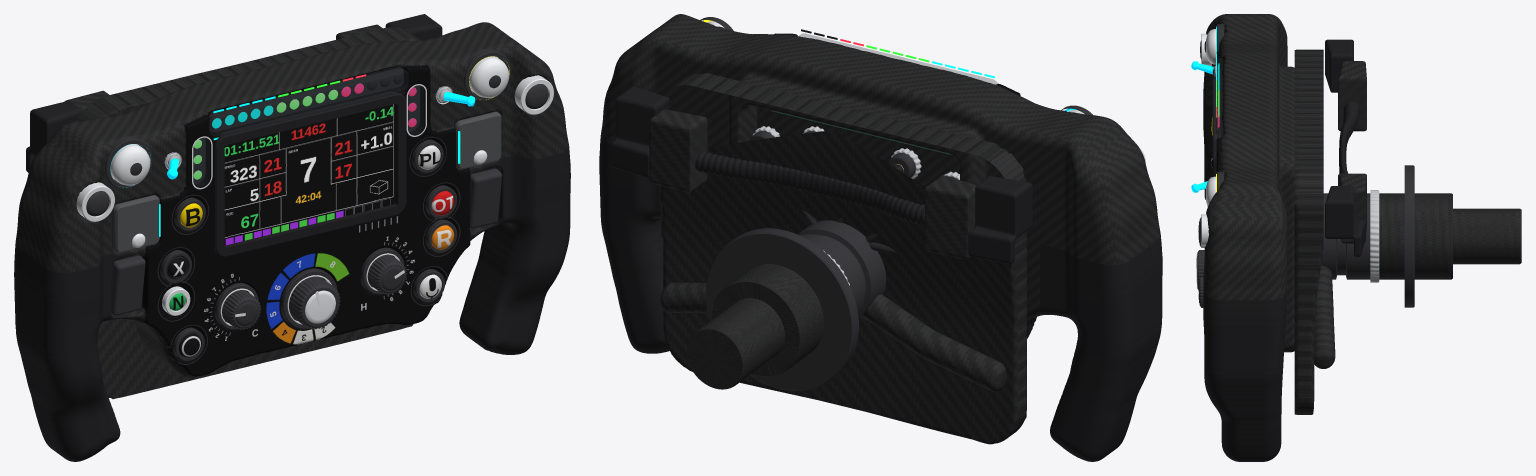
The model's file is VolanteClaudio2.glb.
3 renders of one model, left to right at view 1: azimuth 30°, elevation 25°; view 2: azimuth 150°, elevation 25°; view 3: azimuth 270°, elevation 25°, orthographic. The views are drawn at different scales.
Parts seen in each view (by area): view 1: Shell_Carbon_and_Fascia, Display_Glass, Rear_Cover_Carbon, Display_Bezel, RevLights_Lens, RevLights_Backplate, Panel_L, Panel_R, Dial_centre_Knob, TopKnob_R, TopKnob_L, Rocker_L (+20 smaller); view 2: Shell_Carbon_and_Fascia, Rear_Cover_Carbon, Hub_Flange, Hub_Spigot, Hub_Shaft, Paddle_VBar, Paddle_Shift_L, Paddle_Mount_R, Hub_Body, Paddle_Mount_L, Paddle_Shift_R, Rear (+1 smaller); view 3: Shell_Carbon_and_Fascia, Rear_Cover_Carbon, Hub_Shaft, Hub_Spigot, Hub_Body, Paddle_Shift_R, Paddle_Mount_L, Hub_Flange, Paddle_Shift_L, Hub_LockRing, Paddle_Mount_R, Paddle_VBar (+4 smaller).
Part boxes in pixels (bbox=[...]): Shell_Carbon_and_Fascia: bbox=[14, 22, 570, 461]; Display_Glass: bbox=[224, 104, 395, 245]; Rear_Cover_Carbon: bbox=[75, 27, 420, 399]; Display_Bezel: bbox=[213, 91, 406, 256]; RevLights_Lens: bbox=[209, 67, 408, 135]; RevLights_Backplate: bbox=[209, 68, 403, 132]; Panel_L: bbox=[113, 195, 160, 252]; Panel_R: bbox=[454, 111, 501, 169]; Dial_centre_Knob: bbox=[289, 276, 340, 329]; TopKnob_R: bbox=[463, 48, 511, 101]; TopKnob_L: bbox=[105, 136, 152, 189]; Rocker_L: bbox=[111, 255, 145, 315]; Shell_Carbon_and_Fascia: bbox=[599, 14, 1162, 461]; Rear_Cover_Carbon: bbox=[659, 73, 1026, 444]; Hub_Flange: bbox=[705, 228, 858, 390]; Hub_Spigot: bbox=[687, 298, 784, 389]; Hub_Shaft: bbox=[712, 264, 823, 376]; Paddle_VBar: bbox=[695, 151, 924, 226]; Paddle_Shift_L: bbox=[968, 176, 1032, 263]; Paddle_Mount_R: bbox=[649, 109, 707, 192]; Hub_Body: bbox=[797, 220, 886, 317]; Paddle_Mount_L: bbox=[925, 175, 976, 259]; Paddle_Shift_R: bbox=[611, 86, 669, 177]; Rear: bbox=[749, 126, 959, 254]; Shell_Carbon_and_Fascia: bbox=[1203, 14, 1294, 461]; Rear_Cover_Carbon: bbox=[1294, 49, 1335, 414]; Hub_Shaft: bbox=[1379, 193, 1452, 279]; Hub_Spigot: bbox=[1453, 208, 1521, 264]; Hub_Body: bbox=[1321, 193, 1370, 279]; Paddle_Shift_R: bbox=[1325, 186, 1365, 256]; Paddle_Mount_L: bbox=[1338, 61, 1366, 131]; Hub_Flange: bbox=[1404, 165, 1414, 307]; Paddle_Shift_L: bbox=[1325, 39, 1353, 92]; Hub_LockRing: bbox=[1370, 190, 1379, 282]; Paddle_Mount_R: bbox=[1338, 173, 1366, 243]; Paddle_VBar: bbox=[1339, 101, 1359, 173].
Size of the model in its own units: 0.2833 by 0.1698 by 0.1834.
Materials: 23 (4 with a texture image).
